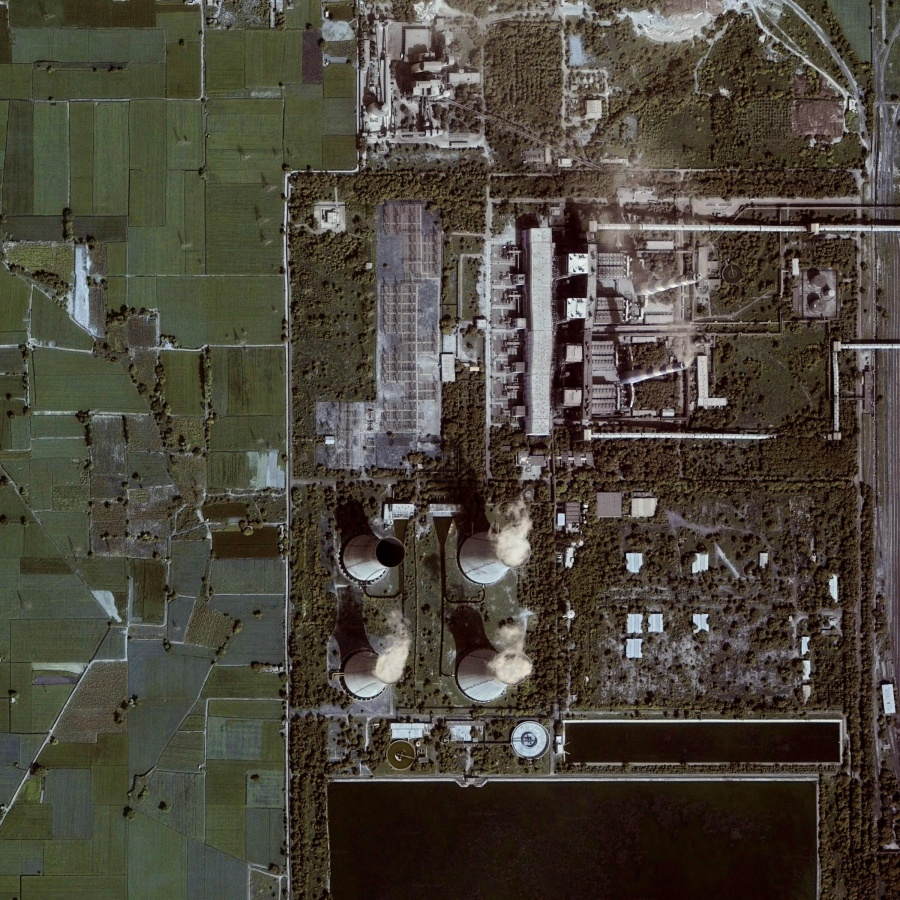PowerPlant: (310, 202, 877, 718)
